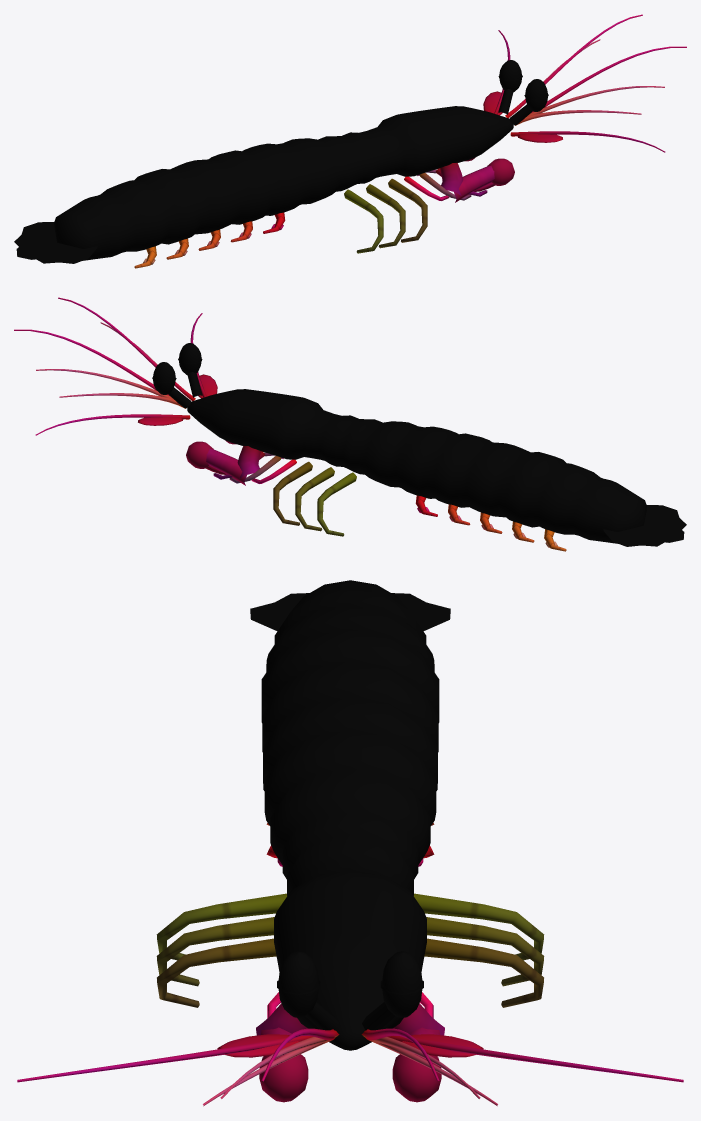
The model's file is mantis_shrimp.glb.
The picture shows the model from 3 angles, top to bottom: view 1: azimuth 30°, elevation 25°; view 2: azimuth 150°, elevation 25°; view 3: azimuth 270°, elevation 25°; orthographic projection. The views are drawn at different scales.
Parts seen in each view (by area): view 1: Body, Legs, Antennae, Claws, Eyes; view 2: Body, Legs, Antennae, Claws, Eyes; view 3: Body, Legs, Antennae, Eyes, Claws.
Part boxes in pixels (x1,y1,x2,y2): Body: [14, 106, 513, 263]; Legs: [134, 168, 487, 268]; Antennae: [483, 14, 686, 152]; Claws: [417, 157, 514, 202]; Eyes: [498, 60, 548, 125]; Body: [187, 389, 686, 546]; Legs: [213, 451, 566, 551]; Antennae: [14, 297, 217, 435]; Claws: [186, 440, 283, 485]; Eyes: [152, 343, 202, 408]; Body: [250, 580, 450, 1050]; Legs: [156, 823, 544, 1018]; Antennae: [17, 1028, 683, 1106]; Eyes: [277, 951, 423, 1030]; Claws: [256, 1003, 444, 1102].
Size of the model in its own units: 1.31 by 0.2185 by 0.5859.
Materials: 3 (1 with a texture image).
